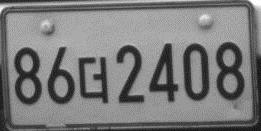0: (180, 42, 211, 101)
2: (113, 44, 146, 104)
4: (147, 42, 180, 105)
6: (45, 44, 76, 105)
8: (213, 39, 246, 102), (13, 46, 43, 106)
더: (76, 55, 110, 105)
